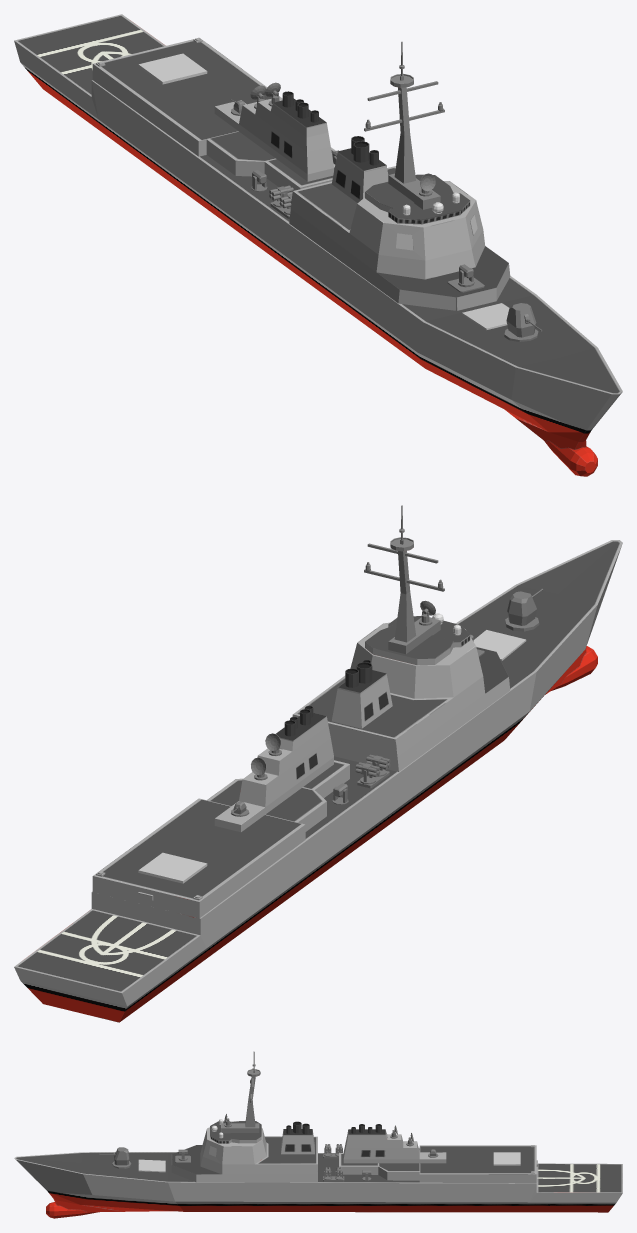
3 renders of one model, top to bottom at view 1: azimuth 30°, elevation 25°; view 2: azimuth 150°, elevation 25°; view 3: azimuth 270°, elevation 25°, orthographic. The views are drawn at different scales.
Visible parts, largest first — view 1: Cube, Cylinder, Cube.001; view 2: Cube, Cylinder, Cube.001; view 3: Cube, Cylinder, Cube.001.
Boxes of the visible parts, bbox=[...] form: Cube: bbox=[14, 14, 622, 476]; Cylinder: bbox=[282, 91, 378, 165]; Cube.001: bbox=[506, 303, 536, 337]; Cube: bbox=[14, 505, 622, 1022]; Cylinder: bbox=[284, 660, 372, 736]; Cube.001: bbox=[507, 591, 536, 625]; Cube: bbox=[14, 1051, 622, 1218]; Cylinder: bbox=[286, 1121, 381, 1134]; Cube.001: bbox=[114, 1147, 129, 1165].
Size of the model in its own units: 57.25 by 146 by 482.
5 materials, 1 textured.
